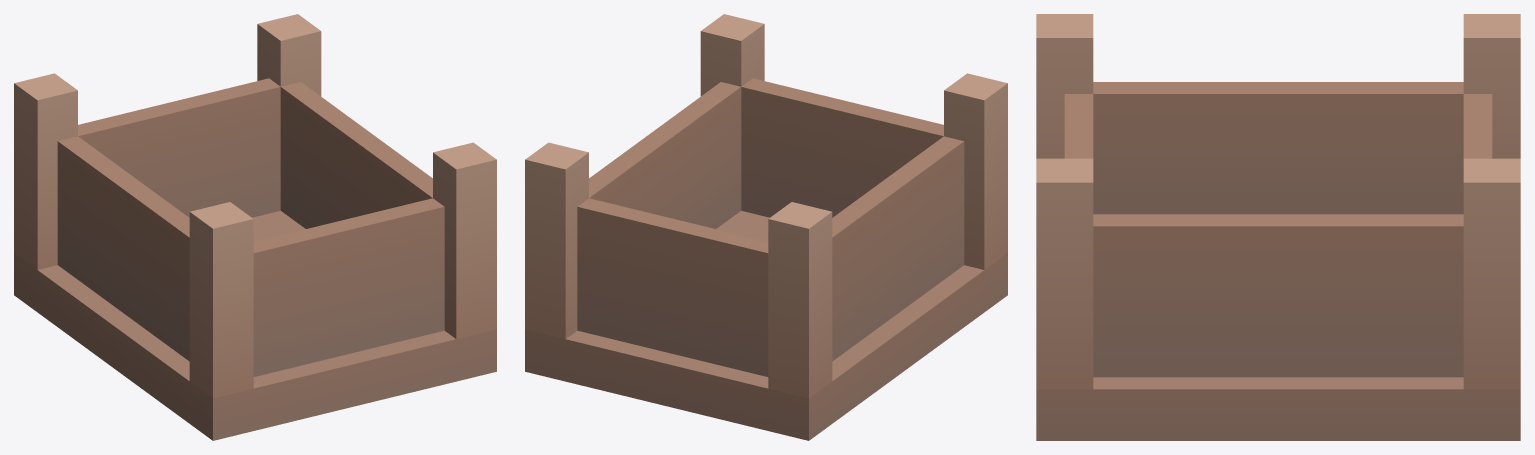
File: crate.glb
3 views of the same model, side by side, from view 1: azimuth 30°, elevation 25°; view 2: azimuth 150°, elevation 25°; view 3: azimuth 270°, elevation 25° (orthographic). The views are drawn at different scales.
Parts seen in each view (by area): view 1: crate; view 2: crate; view 3: crate.
Part boxes in pixels (<box>): crate: <box>14,14,496,440</box>; crate: <box>525,14,1007,440</box>; crate: <box>1036,14,1520,440</box>.
Size of the model in its own units: 1.08 by 0.77 by 1.31.
